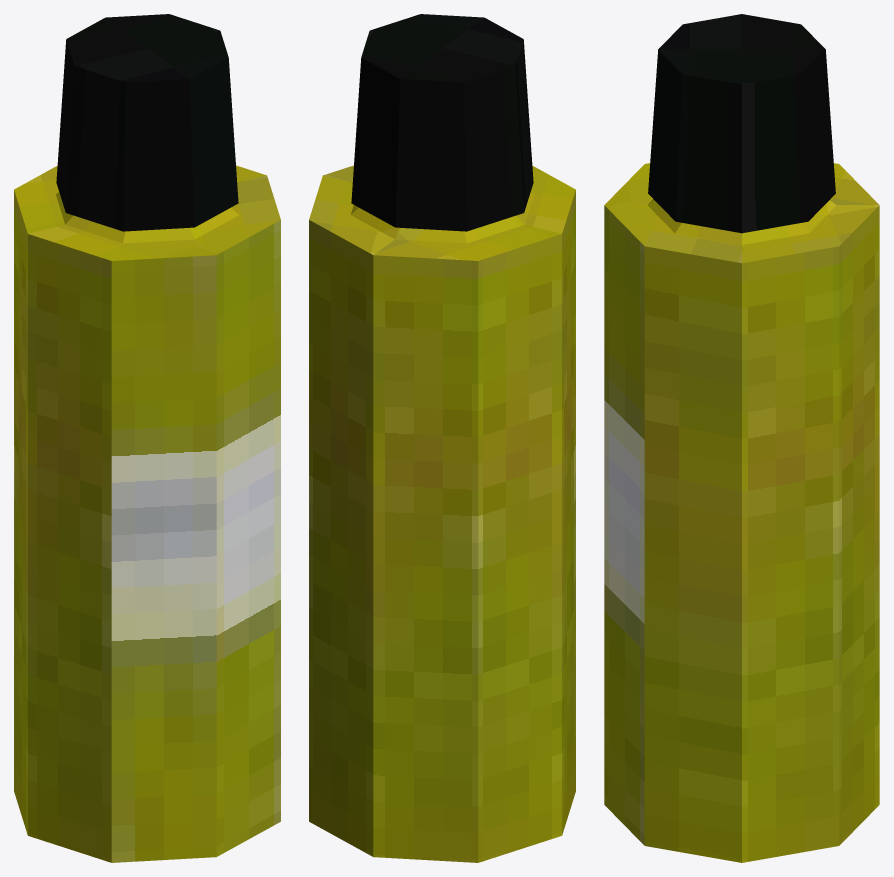
File: Kolonya.fbx
The picture shows the model from 3 angles, left to right: view 1: azimuth 30°, elevation 25°; view 2: azimuth 150°, elevation 25°; view 3: azimuth 270°, elevation 25°; orthographic projection.
Parts seen in each view (by area): view 1: Kolonya, Kapak; view 2: Kolonya, Kapak; view 3: Kolonya, Kapak.
Part boxes in pixels (x1=…): Kolonya: x1=14, y1=165, x2=280, y2=862; Kapak: x1=56, y1=14, x2=238, y2=231; Kolonya: x1=309, y1=165, x2=575, y2=862; Kapak: x1=351, y1=14, x2=533, y2=231; Kolonya: x1=604, y1=163, x2=879, y2=862; Kapak: x1=648, y1=14, x2=835, y2=233.
Size of the model in its own units: 32.7 by 99.02 by 32.7.
1 material, 1 textured.
